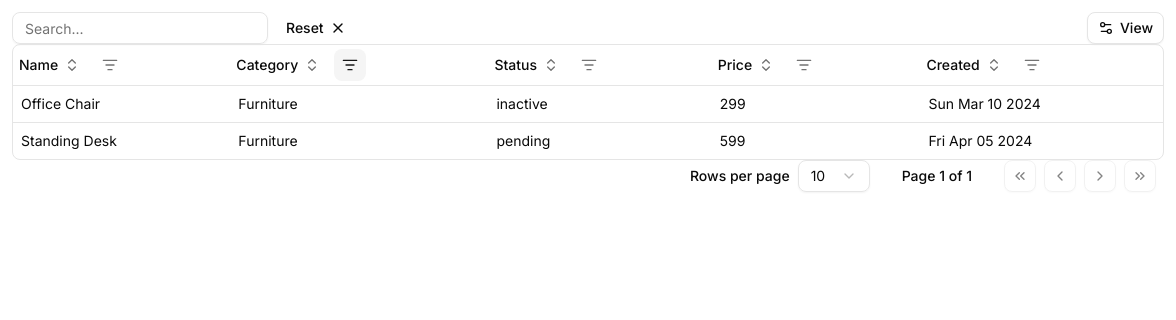
Test: combined filters › resets column filters from the toolbar
Click the button "Reset" at (316, 28), box top-left (276, 12), bottom-right (356, 44)
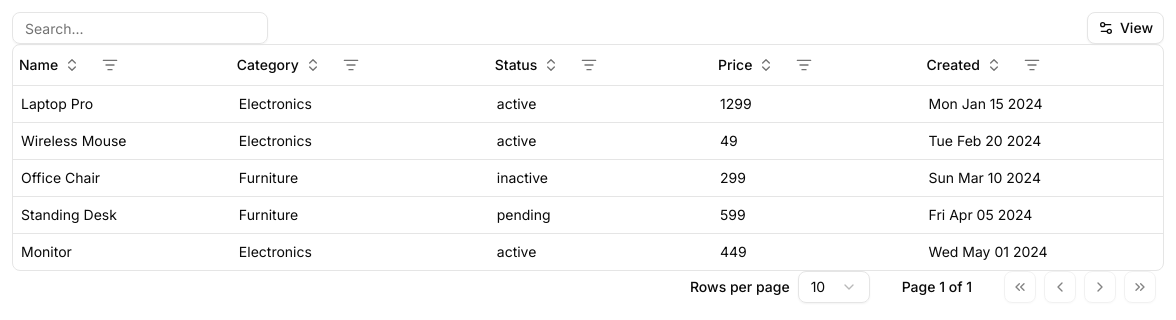
Check: the button "Reset" is gone
